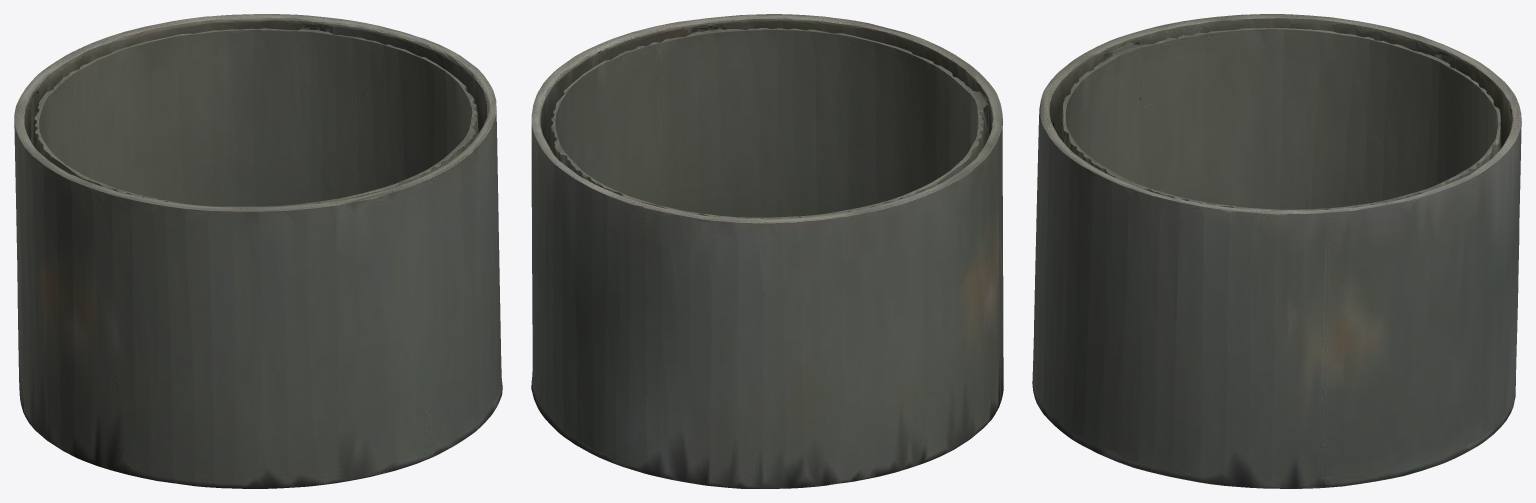
The model's file is large_metal_tub_under_bed_000.glb.
3 views of the same model, side by side, from view 1: azimuth 30°, elevation 25°; view 2: azimuth 150°, elevation 25°; view 3: azimuth 270°, elevation 25° (orthographic). The views are drawn at different scales.
Parts seen in each view (by area): view 1: large_metal_tub_under_bed_000.obj; view 2: large_metal_tub_under_bed_000.obj; view 3: large_metal_tub_under_bed_000.obj.
Part boxes in pixels (bbox=[...]): large_metal_tub_under_bed_000.obj: bbox=[14, 14, 502, 488]; large_metal_tub_under_bed_000.obj: bbox=[531, 14, 1003, 488]; large_metal_tub_under_bed_000.obj: bbox=[1032, 14, 1521, 488].
Size of the model in its own units: 0.2939 by 0.1896 by 0.2954.
Materials: 1 (1 with a texture image).
